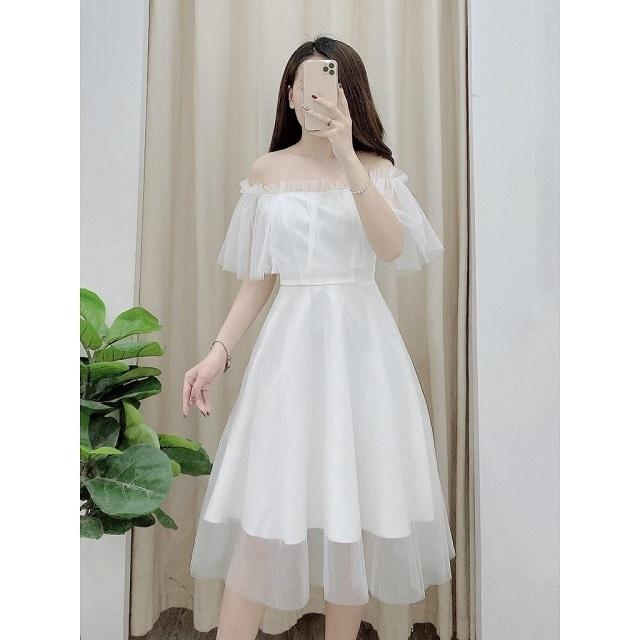clothes: (183, 153, 457, 611)
